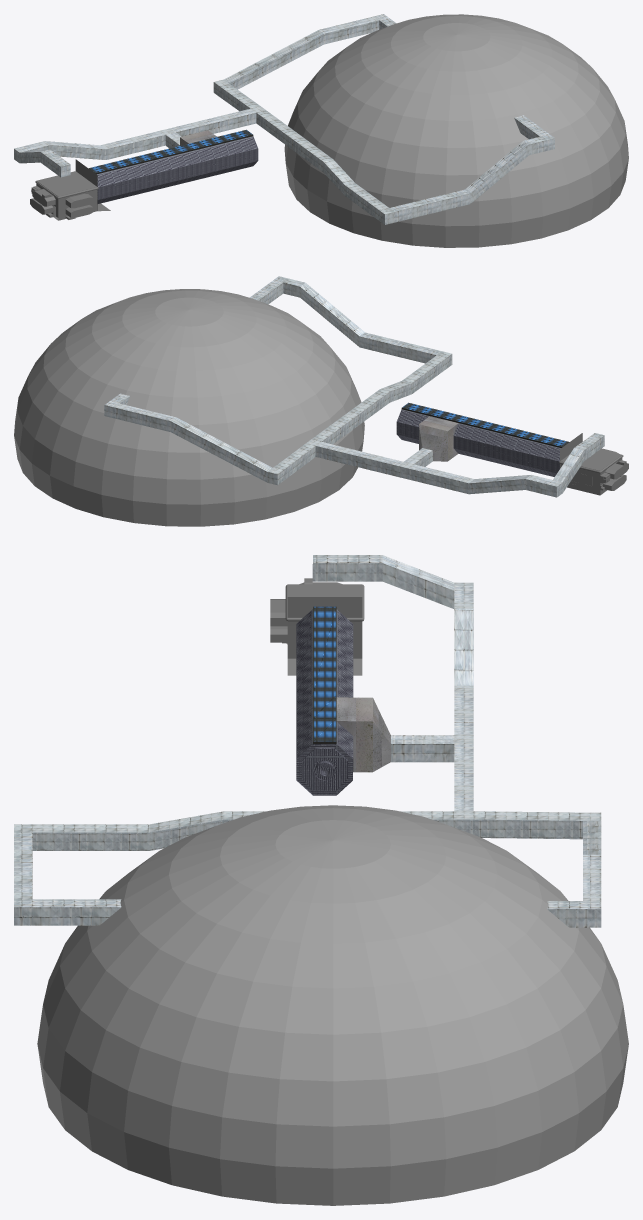
File: Map1.fbx
3 views of the same model, one above another, from view 1: azimuth 30°, elevation 25°; view 2: azimuth 150°, elevation 25°; view 3: azimuth 270°, elevation 25° (orthographic). The views are drawn at different scales.
Parts seen in each view (by area): view 1: Cupola, Condotti_aria, Corridoio_1, Cuccette; view 2: Cupola, Condotti_aria, Corridoio_1, Cuccette, Ventola_esterno; view 3: Cupola, Condotti_aria, Corridoio_1, Cuccette, Porta_corridoio_1, Ventola_esterno.
Boxes of the visible parts, x1,y1,x2,y2 form: Cupola: [284, 14, 628, 247]; Condotti_aria: [14, 14, 554, 224]; Corridoio_1: [89, 129, 258, 203]; Cuccette: [30, 159, 110, 220]; Cupola: [14, 289, 364, 526]; Condotti_aria: [104, 276, 604, 497]; Corridoio_1: [396, 402, 569, 476]; Cuccette: [559, 433, 628, 495]; Ventola_esterno: [419, 420, 453, 461]; Cupola: [37, 805, 628, 1205]; Condotti_aria: [14, 555, 601, 927]; Corridoio_1: [296, 606, 355, 772]; Cuccette: [270, 578, 364, 675]; Porta_corridoio_1: [296, 744, 352, 795]; Ventola_esterno: [356, 697, 390, 772].
Size of the model in its own units: 166 by 39.35 by 90.31.
Materials: 22 (19 with a texture image).
